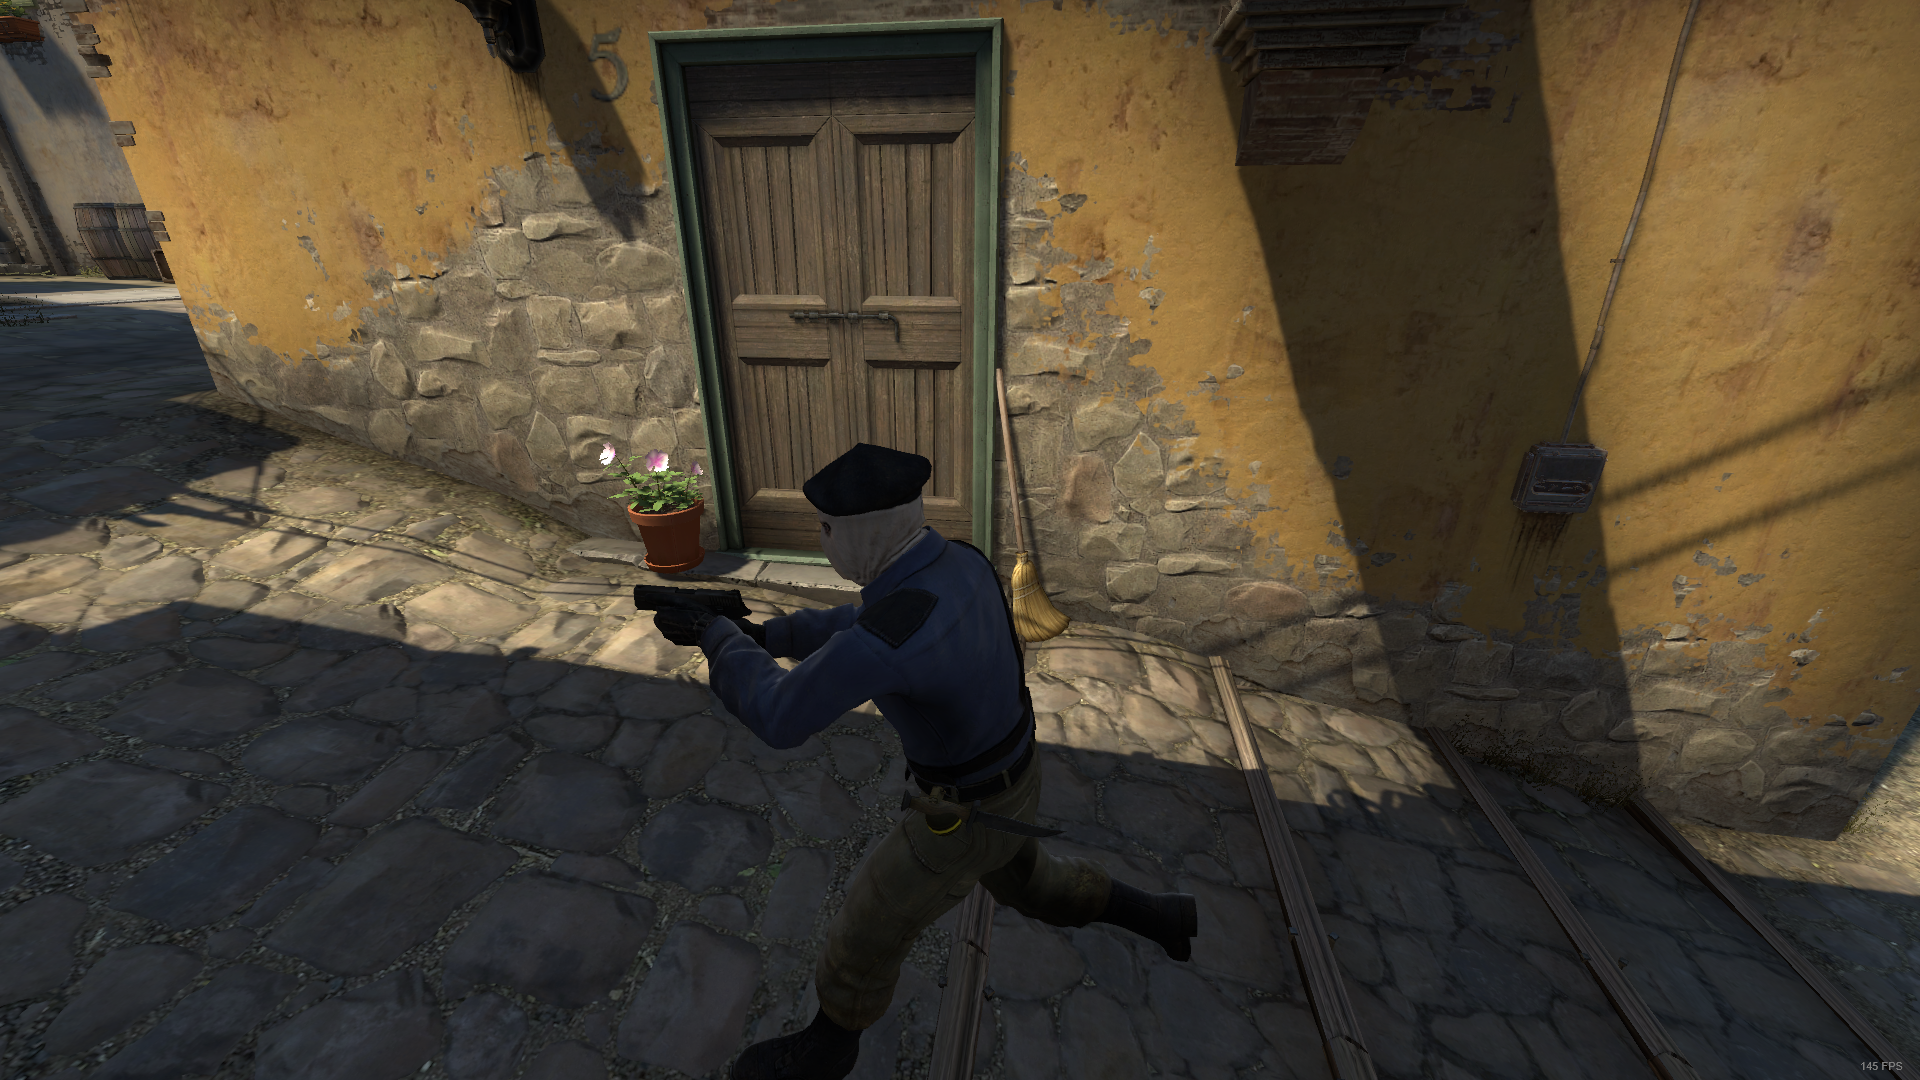t: (633, 439, 1222, 1080)
